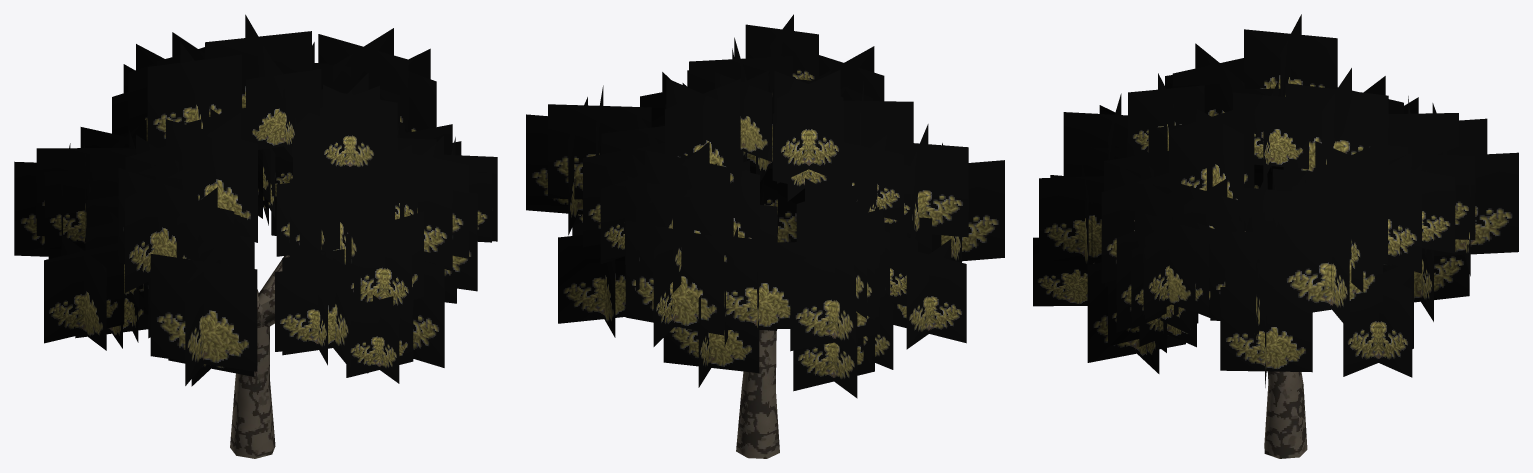
File: oak0_dry_lod0.fbx
3 renders of one model, left to right at view 1: azimuth 30°, elevation 25°; view 2: azimuth 150°, elevation 25°; view 3: azimuth 270°, elevation 25°, orthographic. The views are drawn at different scales.
Parts seen in each view (by area): view 1: oak0_dry_lod0; view 2: oak0_dry_lod0; view 3: oak0_dry_lod0.
Boxes of the visible parts, x1,y1,x2,y2 form: oak0_dry_lod0: (14, 14, 497, 458); oak0_dry_lod0: (526, 14, 1004, 458); oak0_dry_lod0: (1033, 14, 1518, 458).
Size of the model in its own units: 10.35 by 9.31 by 10.53.
2 materials, 2 textured.
